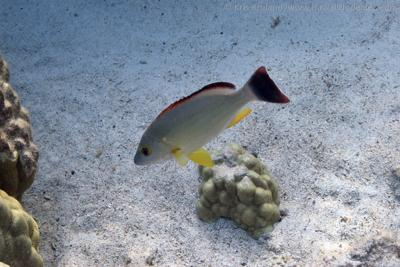Lutjanidae -Snappers-: (131, 62, 291, 173)
